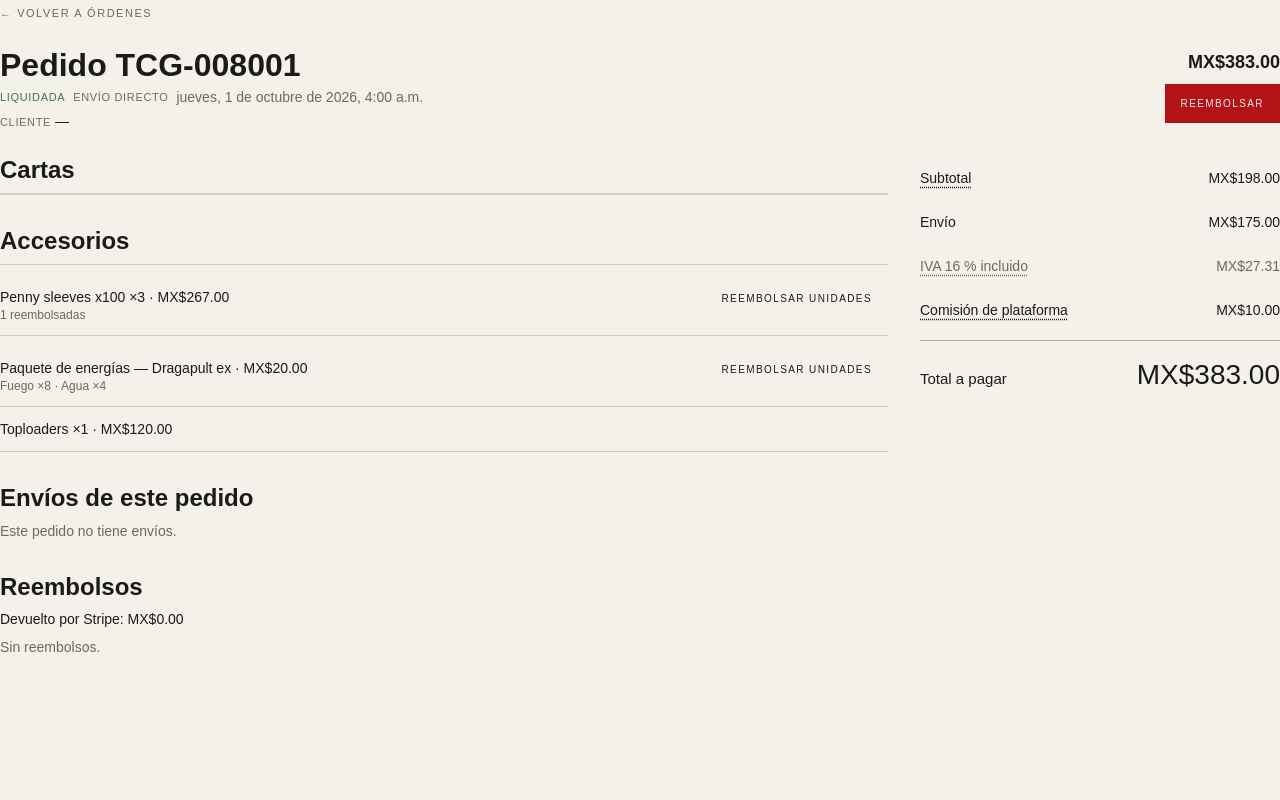
Test case: AC-F19 · «Reembolsar unidades» con el importe del servidor › 409 ACCESSORY_REFUND_EXCEEDS {refundableQty}: «Solo quedan N…»
Click the button with test id "m3-accessory-refund-oal-1" at (797, 299), box [706,277,888,321]
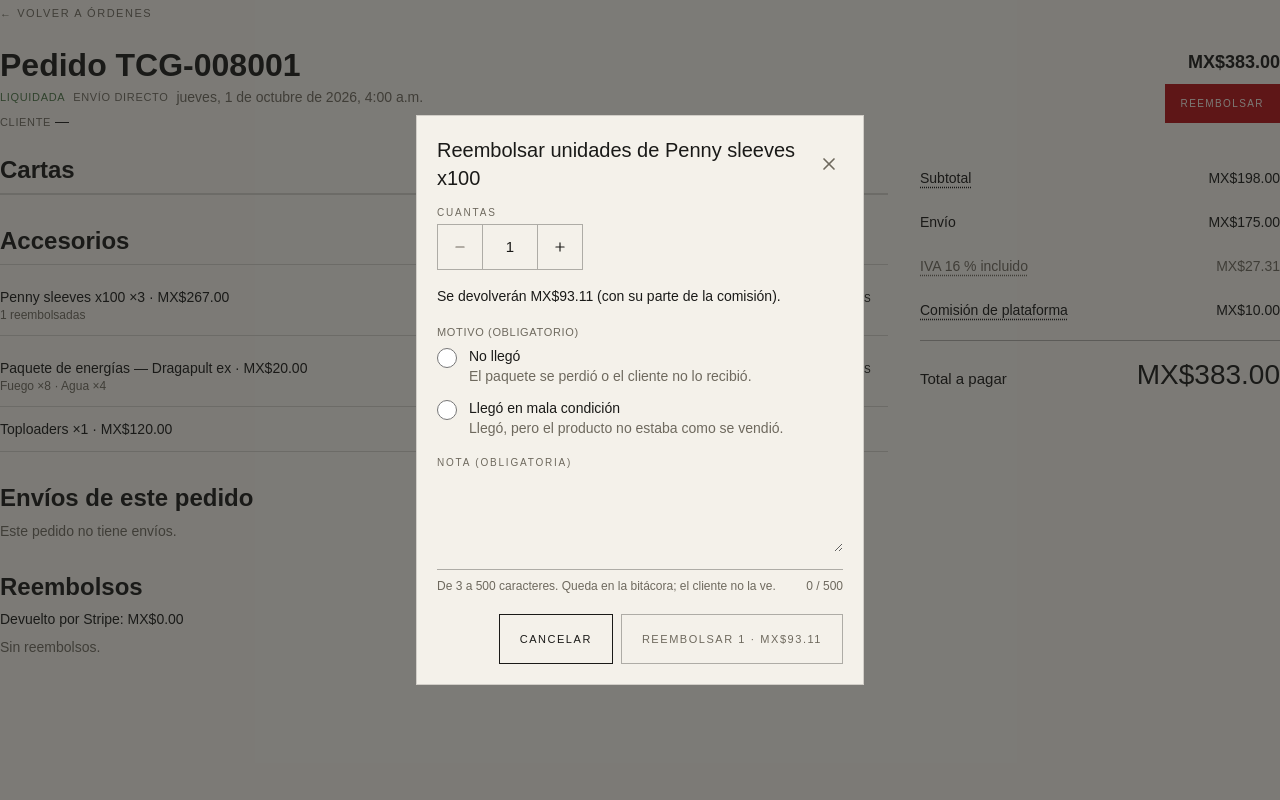
Click the radio button labelled "No llegó El paquete se perdió o el cliente no lo recibió." at (447, 358), box [437,348,457,368]
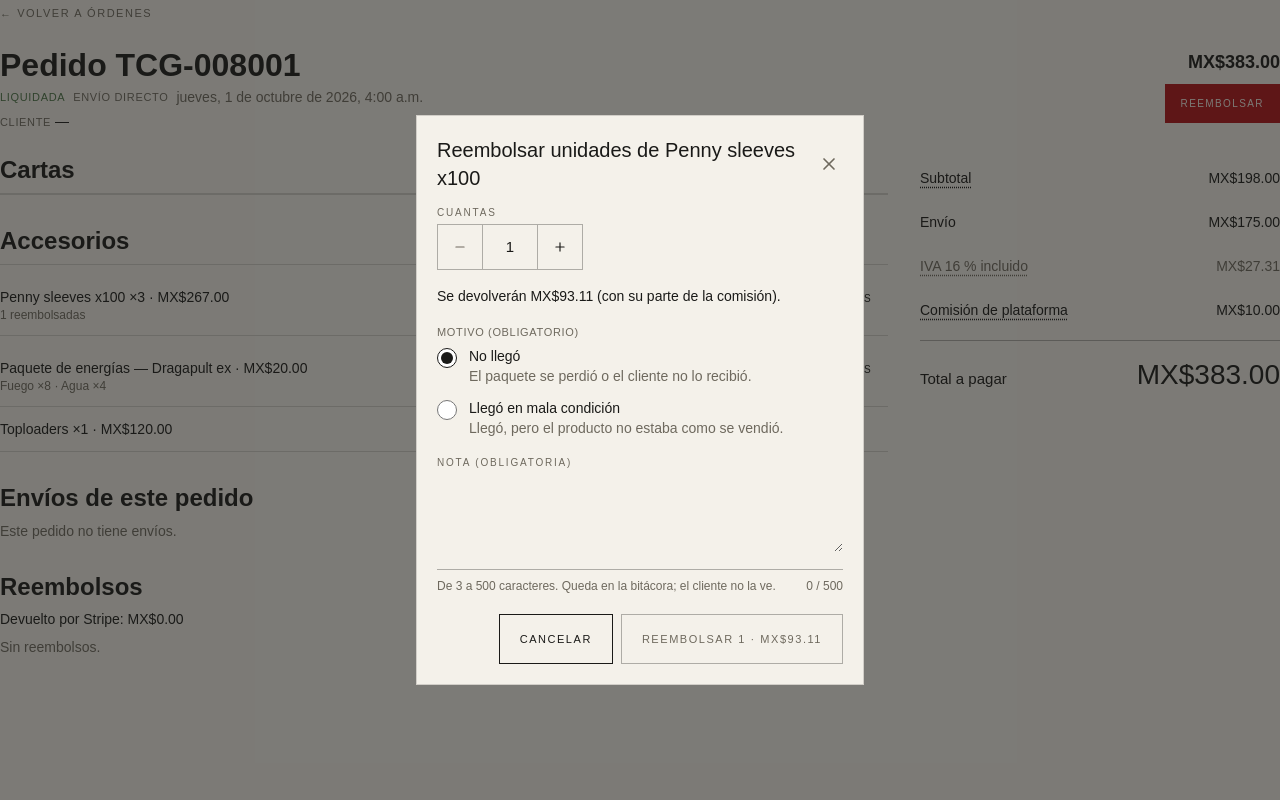
Type "No llegó el paquete según la paquetería" into the text box labelled "Nota (obligatoria)" at (640, 516), box [437,480,843,552]
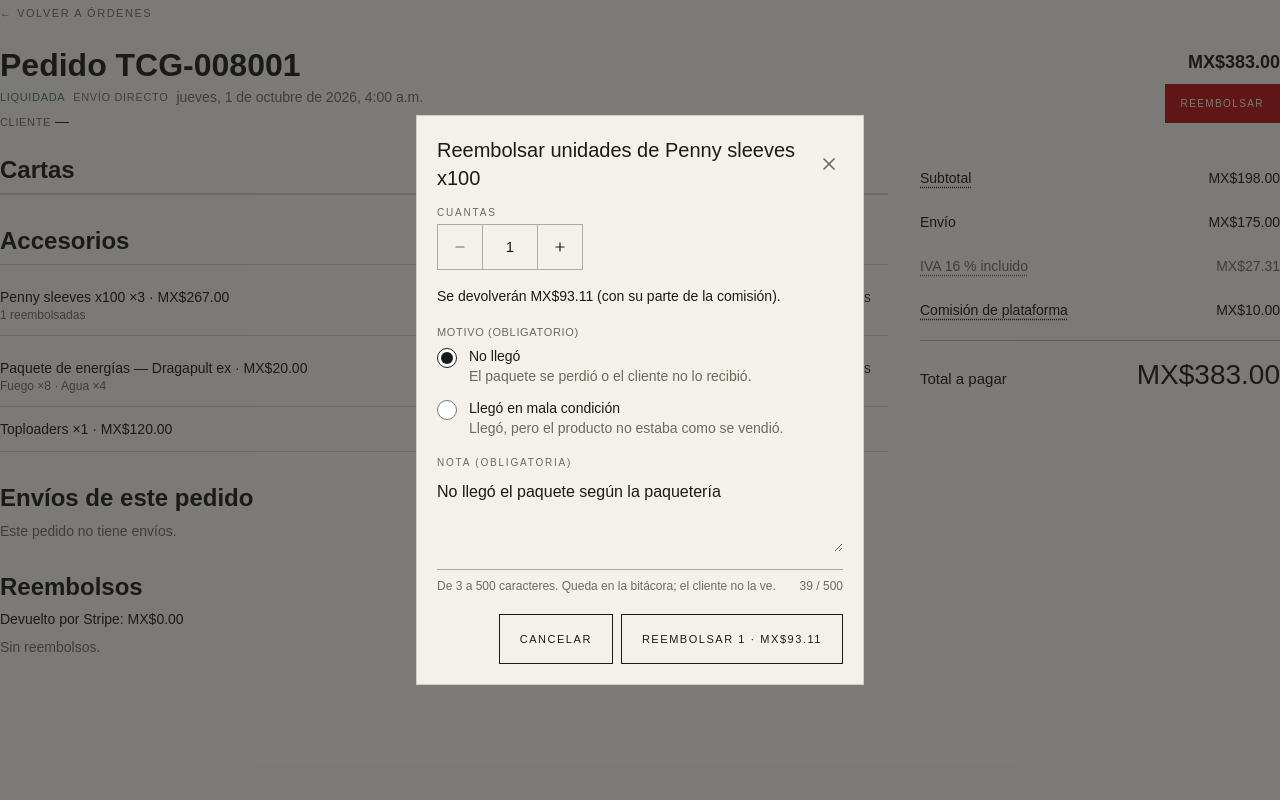
Click the button "Reembolsar 1 · MX$93.11" at (732, 639), box [621,614,843,664]
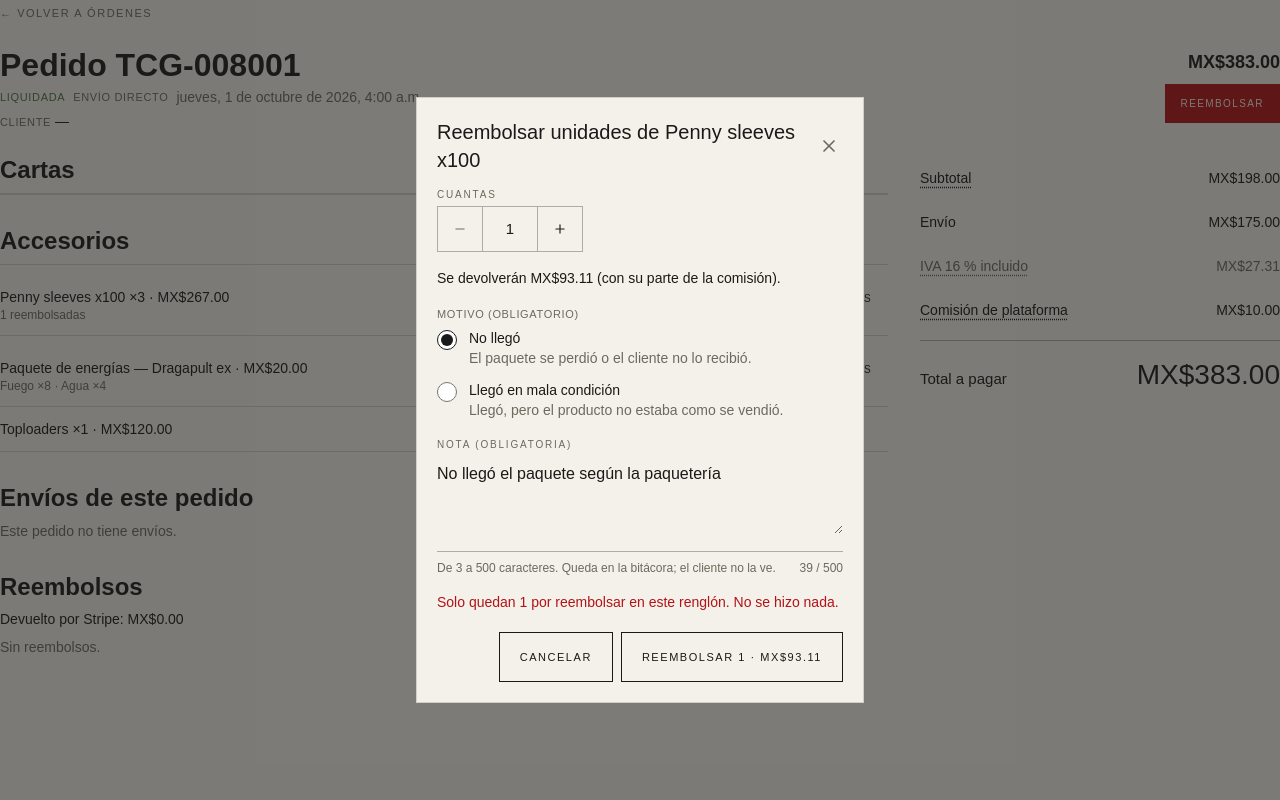
Now the text "Solo quedan 1 por reembolsar en este renglón. No se hizo nada." is shown, box [437,592,843,612]
